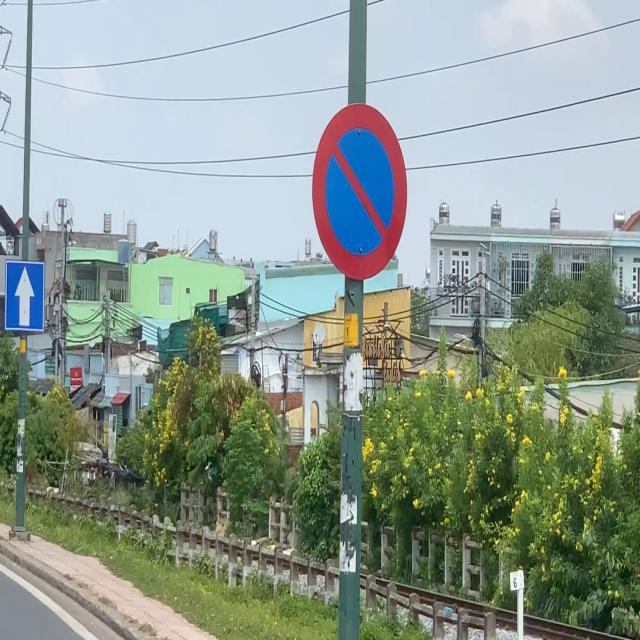Cam do: (311, 102, 408, 282)
Chi dan: (5, 258, 46, 333)
